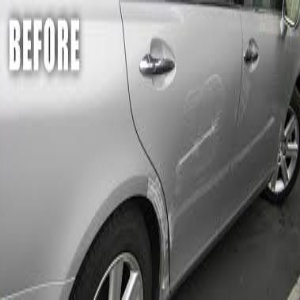door_scratch: (166, 88, 274, 171)
